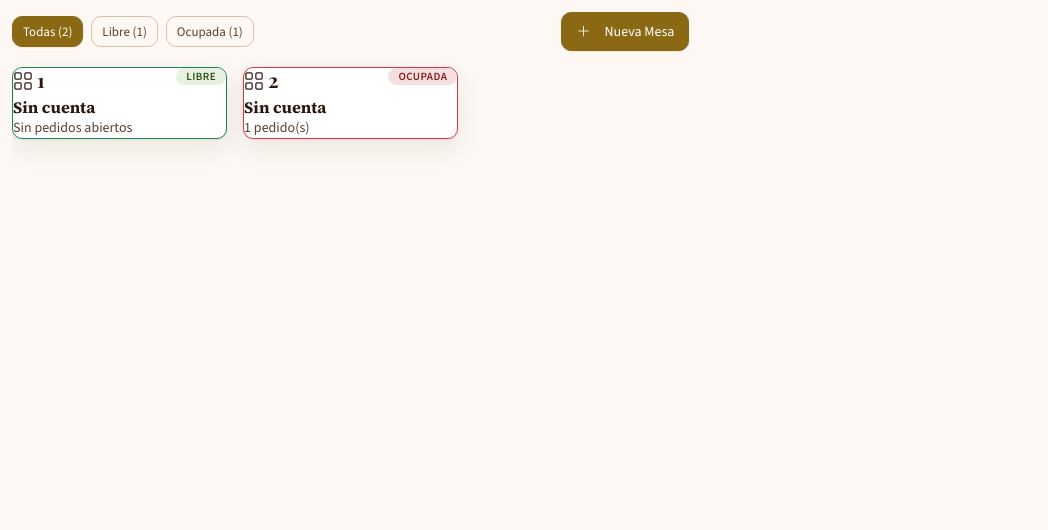
Test: MesasPage › panel muestra cuenta, mesero y acciones operativas
Expected: the heading "1" is shown, [13,68,45,92]
Click the heading "2". click: (261, 80)
box: [244,68,279,92]
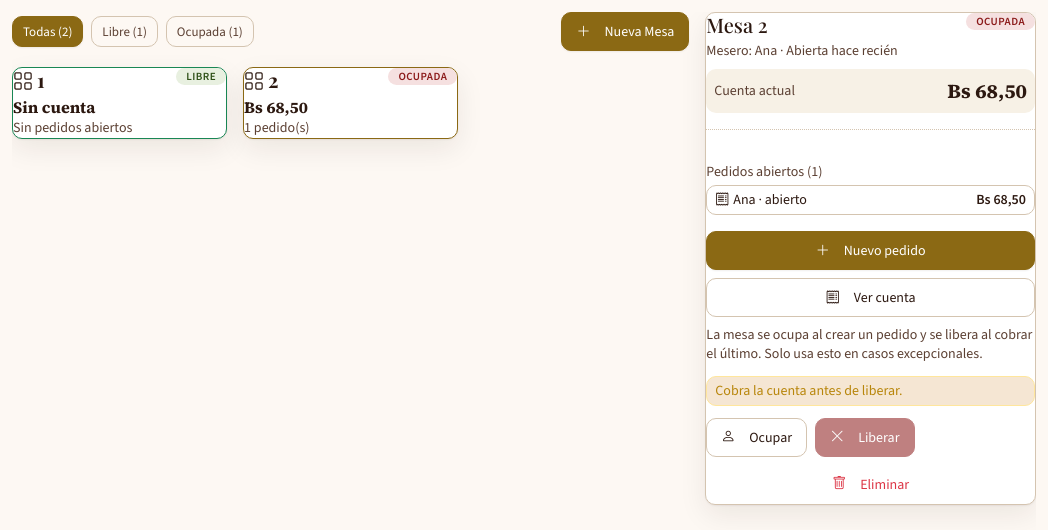
Result: the text "Cuenta actual" is shown at [714,81,795,100]
Result: the button "Nuevo pedido" is shown at [706,231,1035,270]
Result: the button "Ver cuenta" is shown at [706,278,1035,317]
